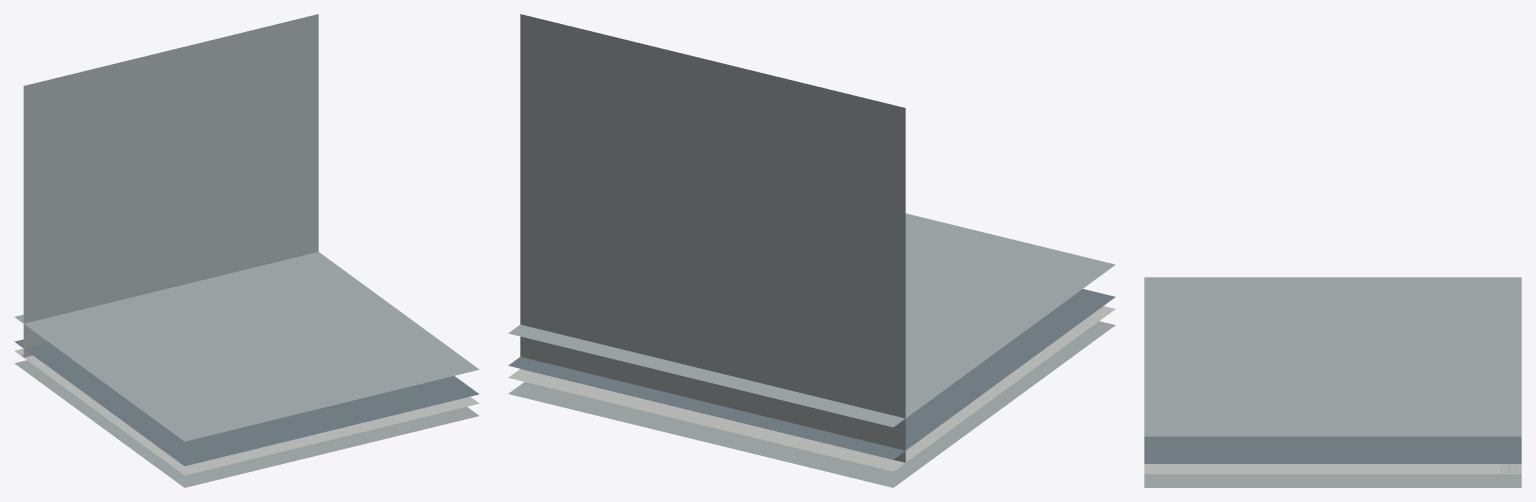
Rendered from cell_114.obj.
3 renders of one model, left to right at view 1: azimuth 30°, elevation 25°; view 2: azimuth 150°, elevation 25°; view 3: azimuth 270°, elevation 25°, orthographic. The views are drawn at different scales.
Size of the model in its own units: 1 by 0.92 by 1.
